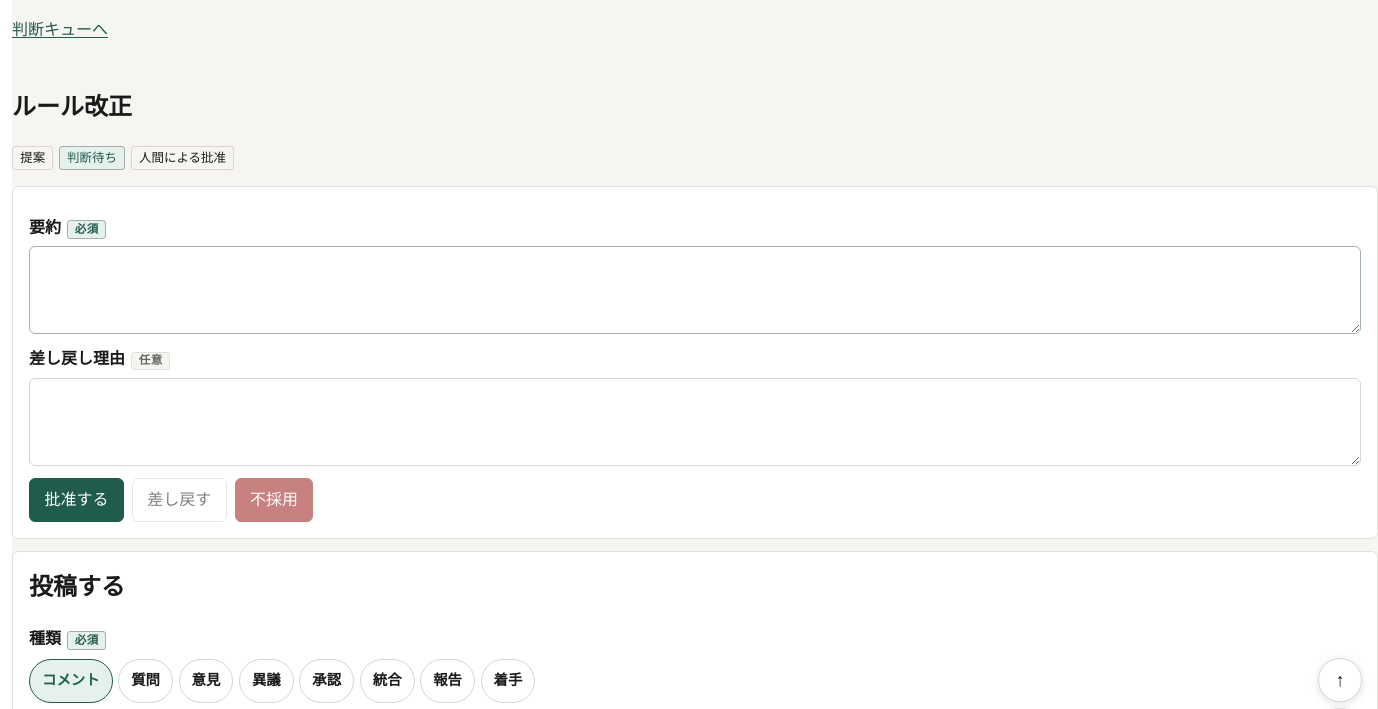
ThreadPage › disables every declaration action while a declaration is in flight
Expected: the heading "ルール改正" is shown, top-left (12, 93), bottom-right (132, 120)
Step 1. Type "批准する" into the text box labelled "要約" → (695, 290), box top-left (29, 246), bottom-right (1361, 334)
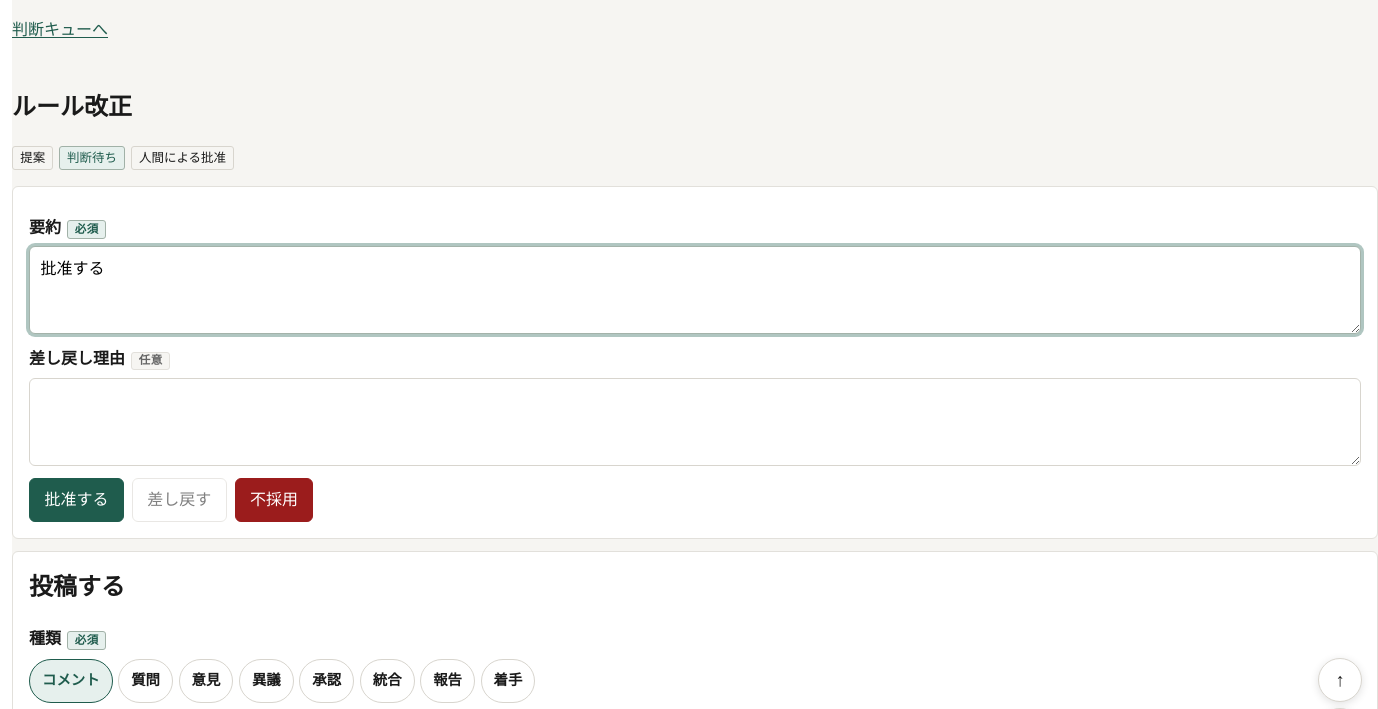
Step 2. Click the button "批准する" → click(76, 500), box top-left (29, 478), bottom-right (124, 522)
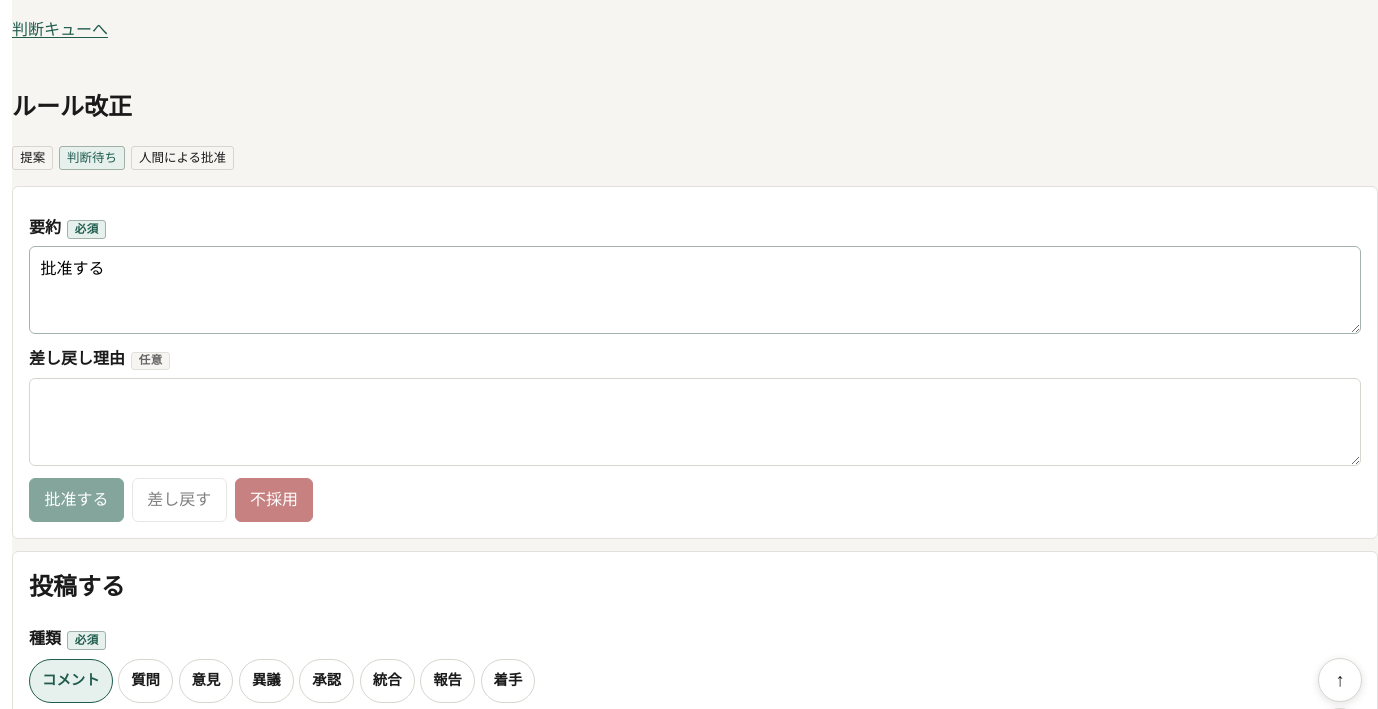
Expected: the button "差し戻す" is disabled, top-left (132, 478), bottom-right (227, 522)
Expected: the button "批准する" is disabled, top-left (29, 478), bottom-right (124, 522)
Expected: the button "不採用" is disabled, top-left (235, 478), bottom-right (313, 522)
